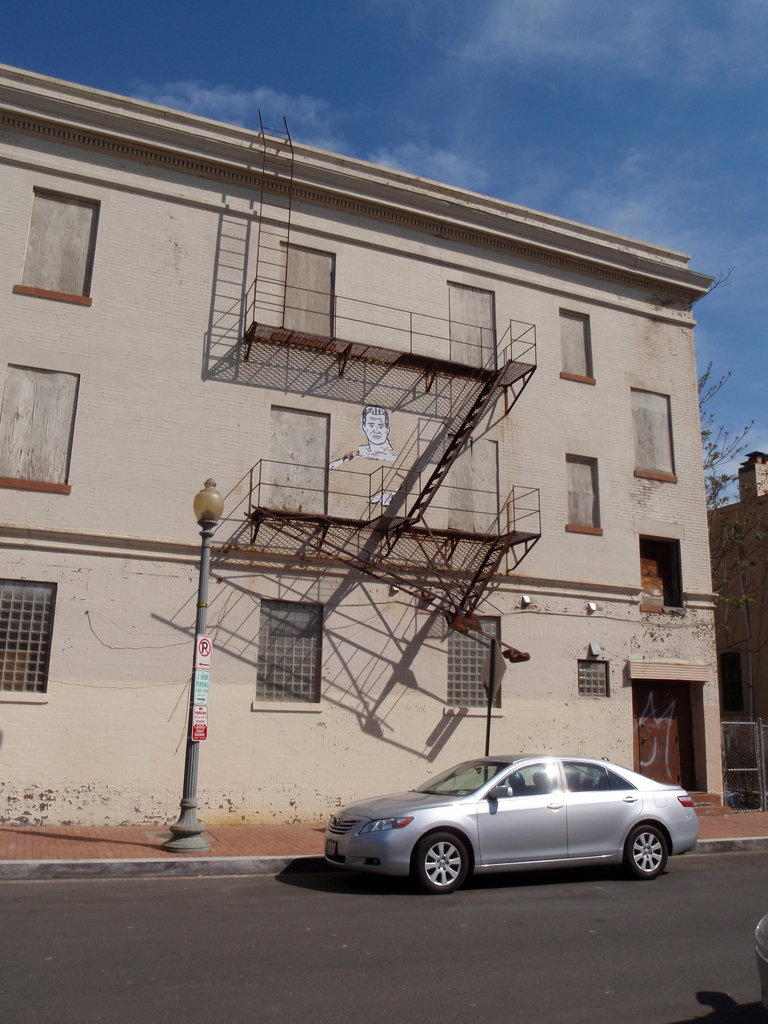Car: (307, 754, 710, 887)
